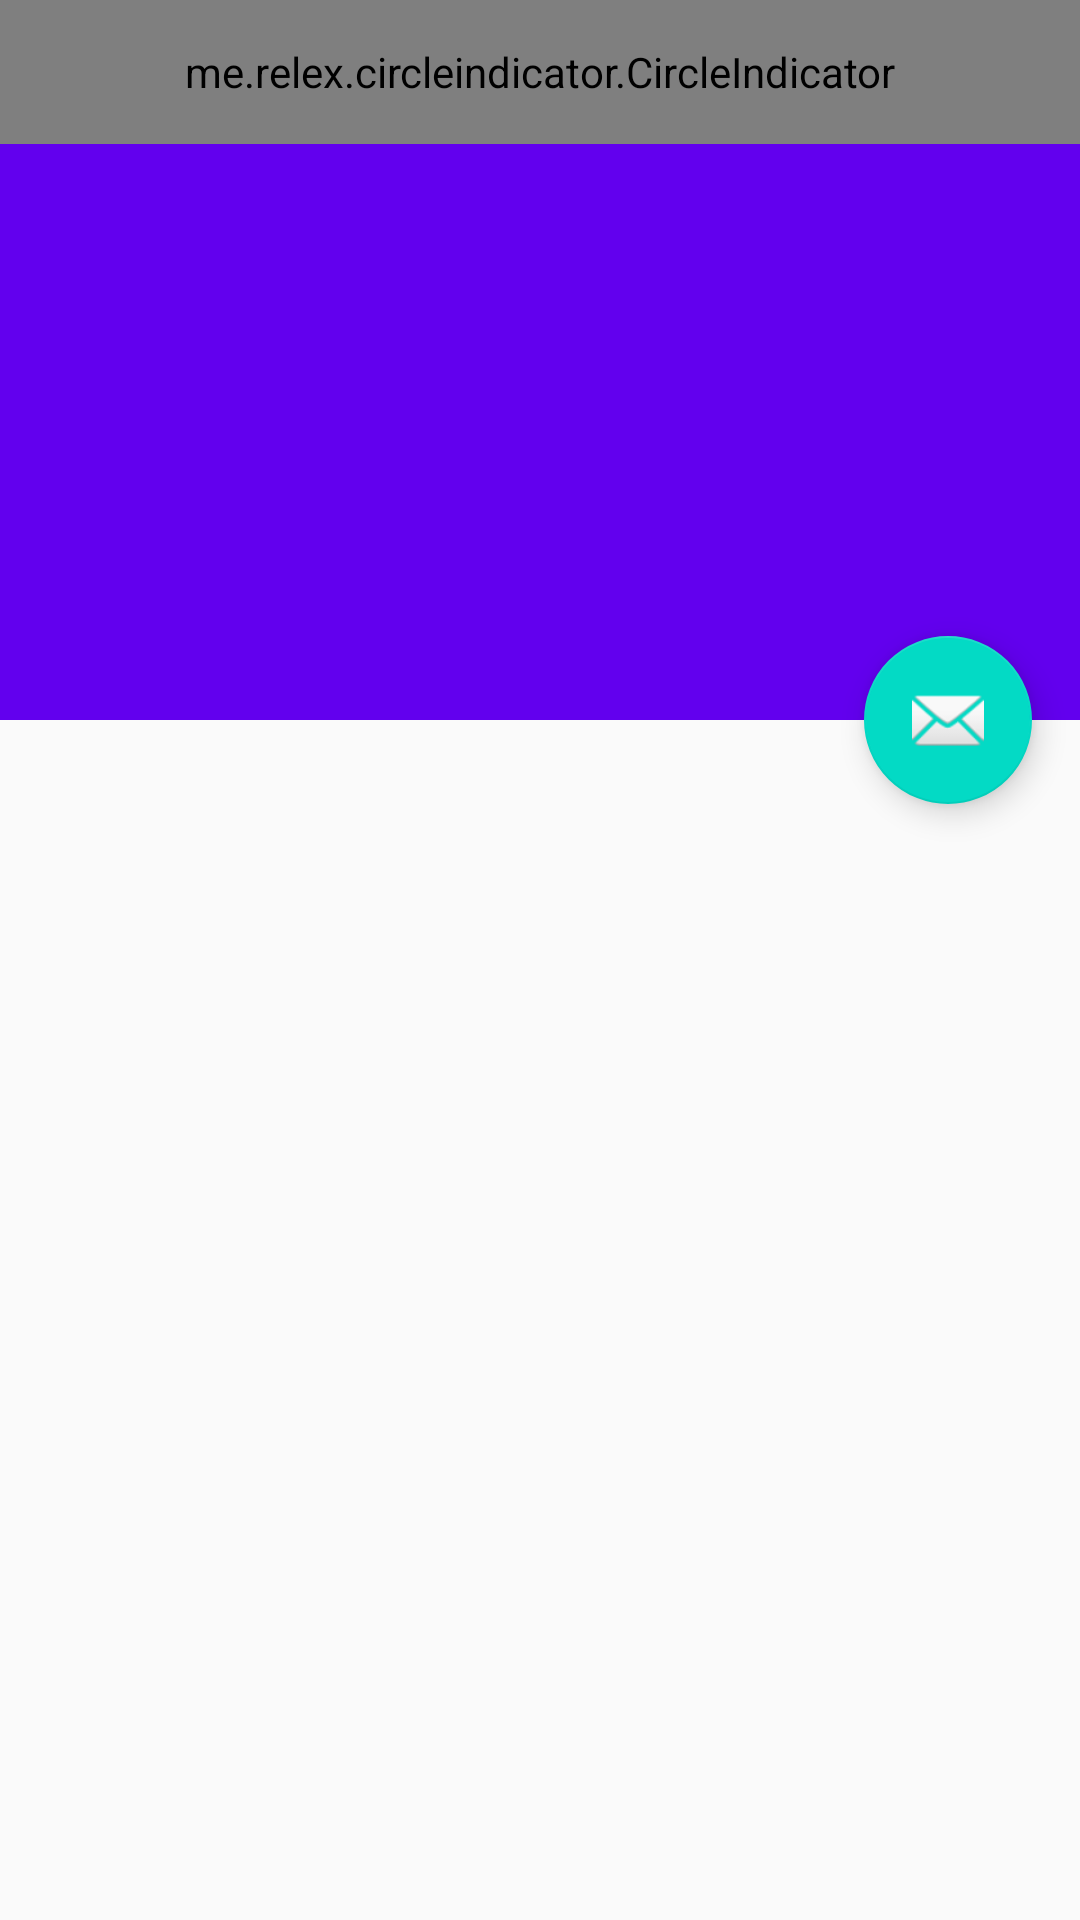

Icon click points for this 1080×1920 phone screenshot, format (x,y):
email: (948,720)
